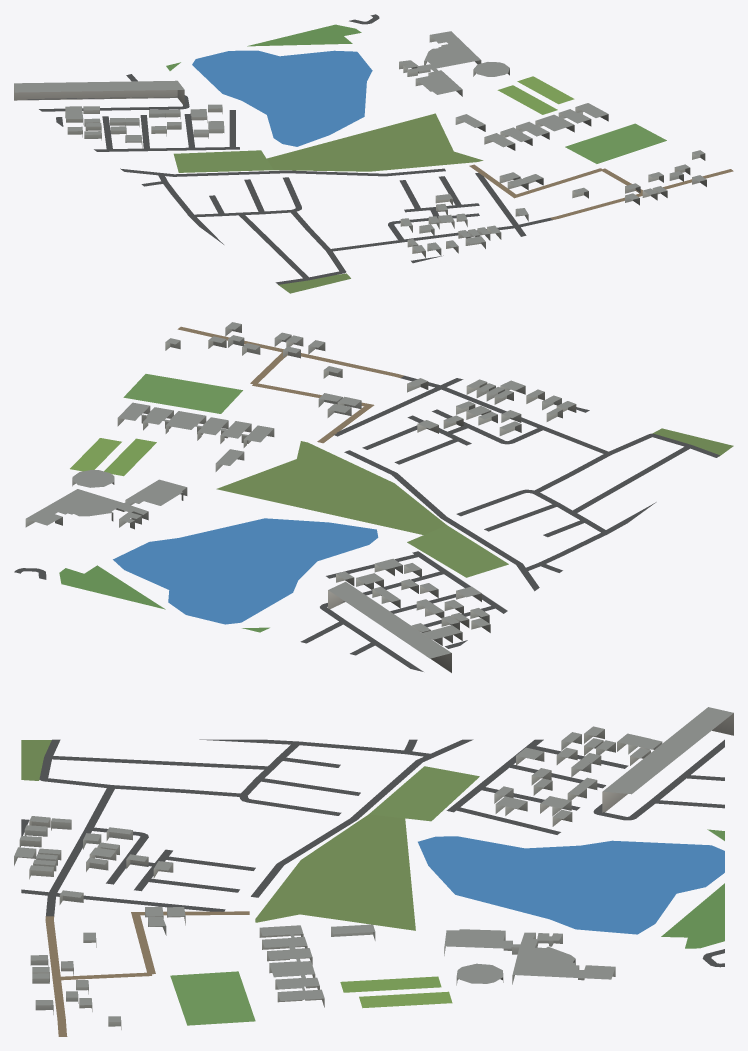
3 renders of one model, top to bottom at view 1: azimuth 30°, elevation 25°; view 2: azimuth 150°, elevation 25°; view 3: azimuth 270°, elevation 25°, orthographic. The views are drawn at different scales.
Visible parts, largest first — view 1: ground, building, water; view 2: ground, building, water; view 3: ground, building, water.
Part boxes in pixels (left/top/right/bottom): ground: left=27, top=14, right=733, bottom=293; building: left=14, top=31, right=706, bottom=257; water: left=192, top=50, right=372, bottom=146; ground: left=14, top=326, right=733, bottom=671; building: left=25, top=322, right=576, bottom=672; water: left=113, top=518, right=378, bottom=624; ground: left=21, top=739, right=724, bottom=1036; building: left=14, top=707, right=733, bottom=1029; water: left=418, top=836, right=724, bottom=934.
Size of the model in its own units: 519 by 18 by 512.
